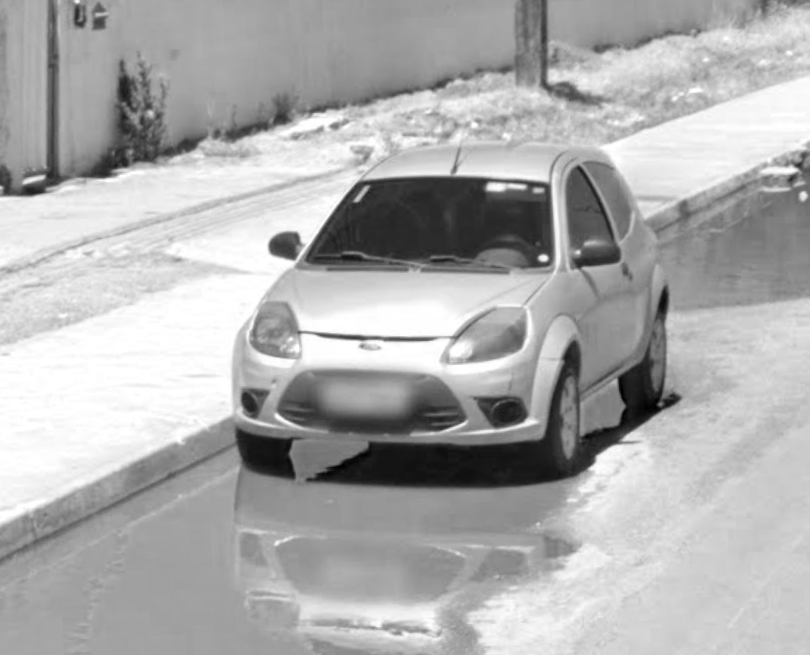car: (226, 127, 675, 479)
